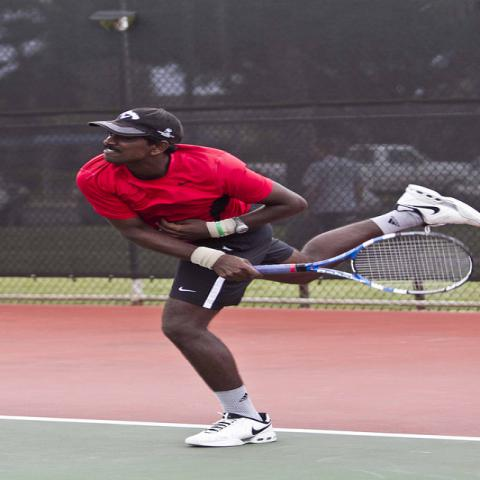truck: (246, 143, 479, 199)
